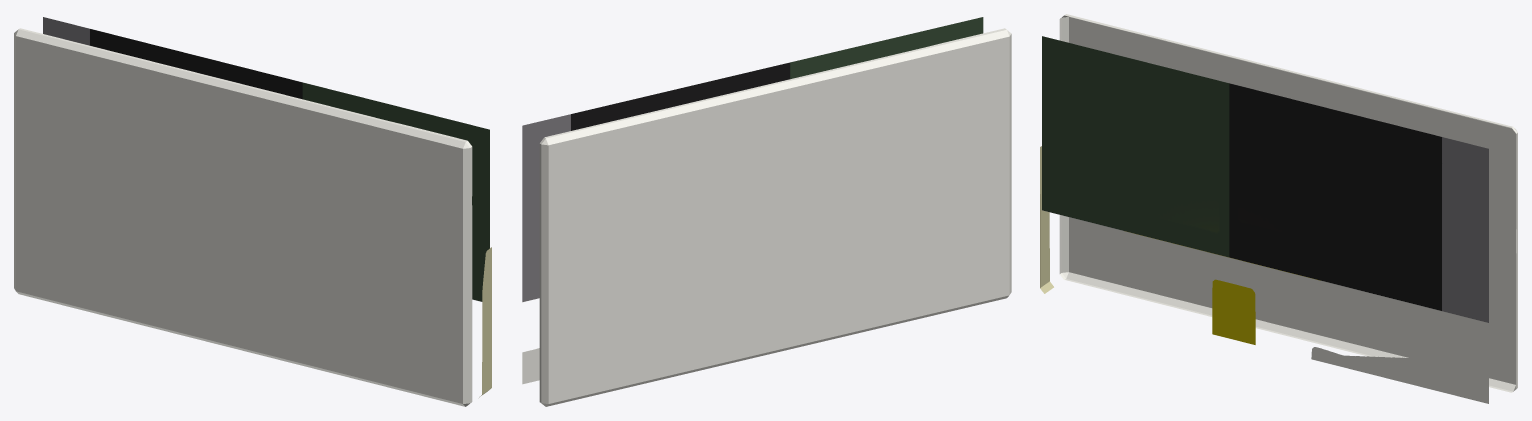
Rendered from Paper_004.fbx.
3 renders of one model, left to right at view 1: azimuth 90°, elevation 25°; view 2: azimuth 150°, elevation 25°; view 3: azimuth 270°, elevation 25°, orthographic.
Visible parts, largest first — view 1: Paper_004; view 2: Paper_004; view 3: Paper_004.
Part boxes in pixels (x1=…): Paper_004: x1=14, y1=17, x2=491, y2=406; Paper_004: x1=522, y1=17, x2=1011, y2=406; Paper_004: x1=1040, y1=14, x2=1517, y2=403.
Size of the model in its own units: 0.3895 by 0.3644 by 0.596.
